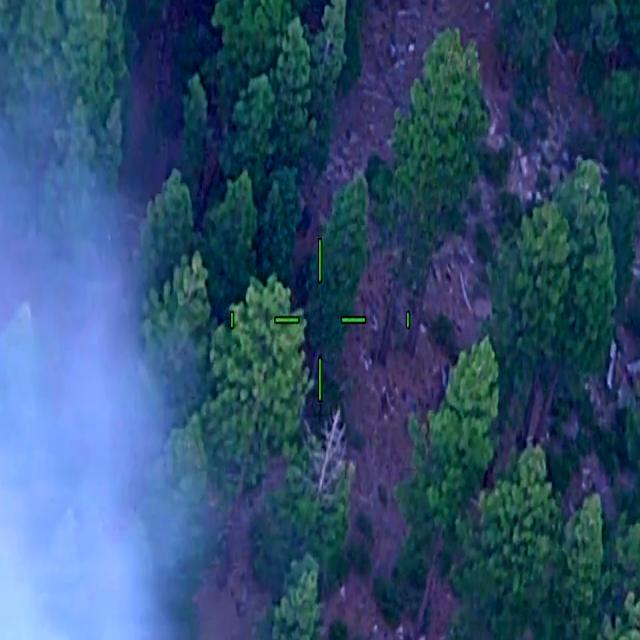smoke: (0, 136, 129, 640)
